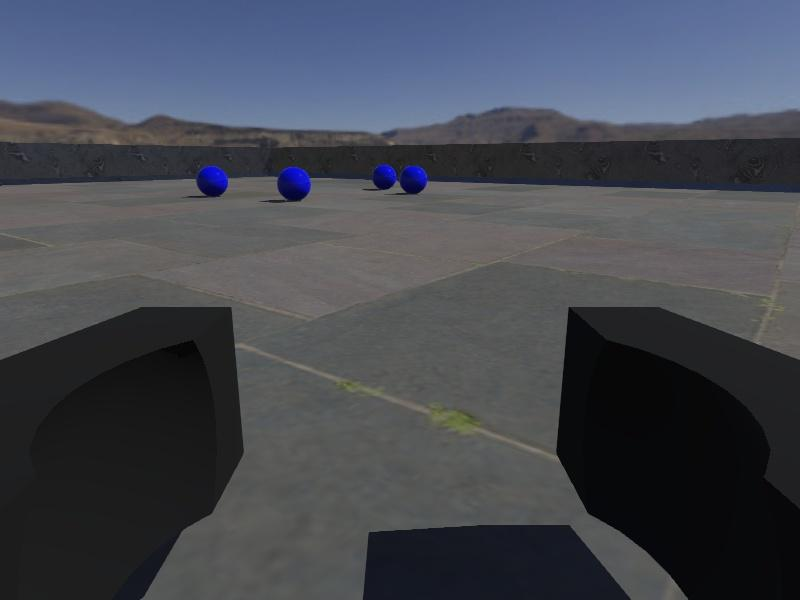blue ball: (276, 166, 312, 202), (197, 165, 229, 198), (400, 164, 428, 193), (371, 163, 398, 191)
